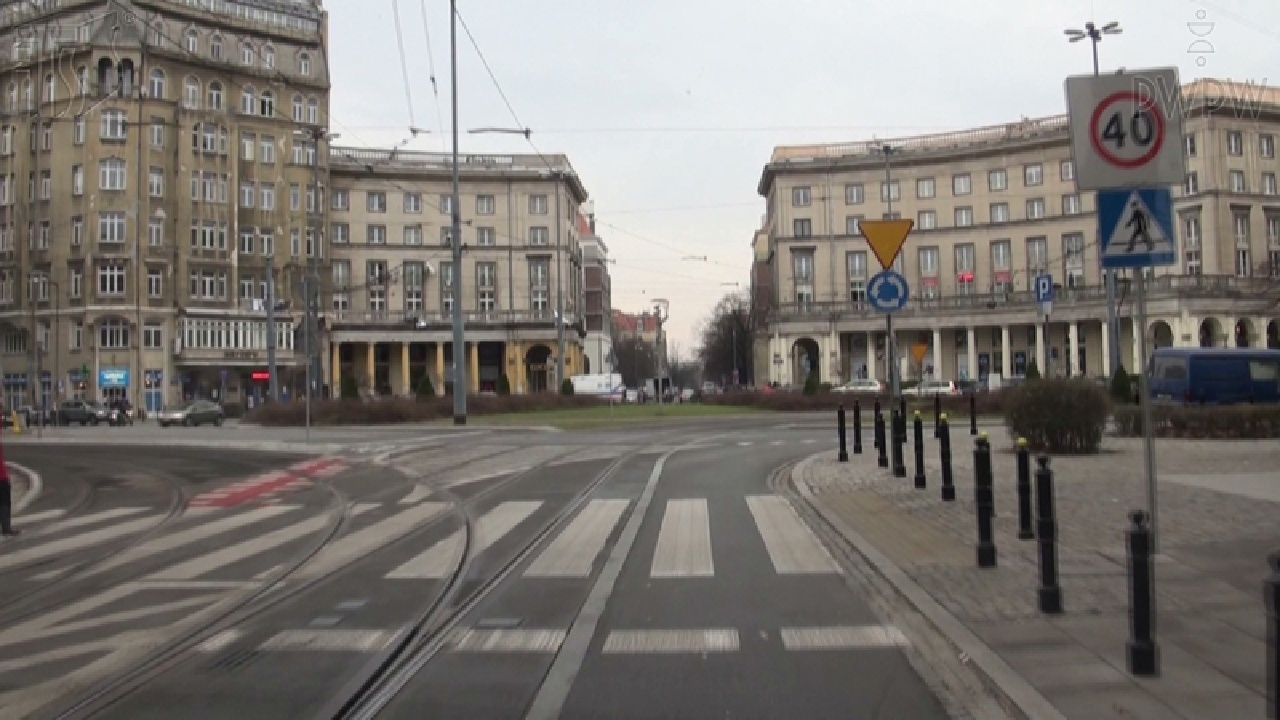A7: (855, 217, 918, 268)
C12: (865, 272, 911, 311)
D6: (1091, 189, 1183, 268)
